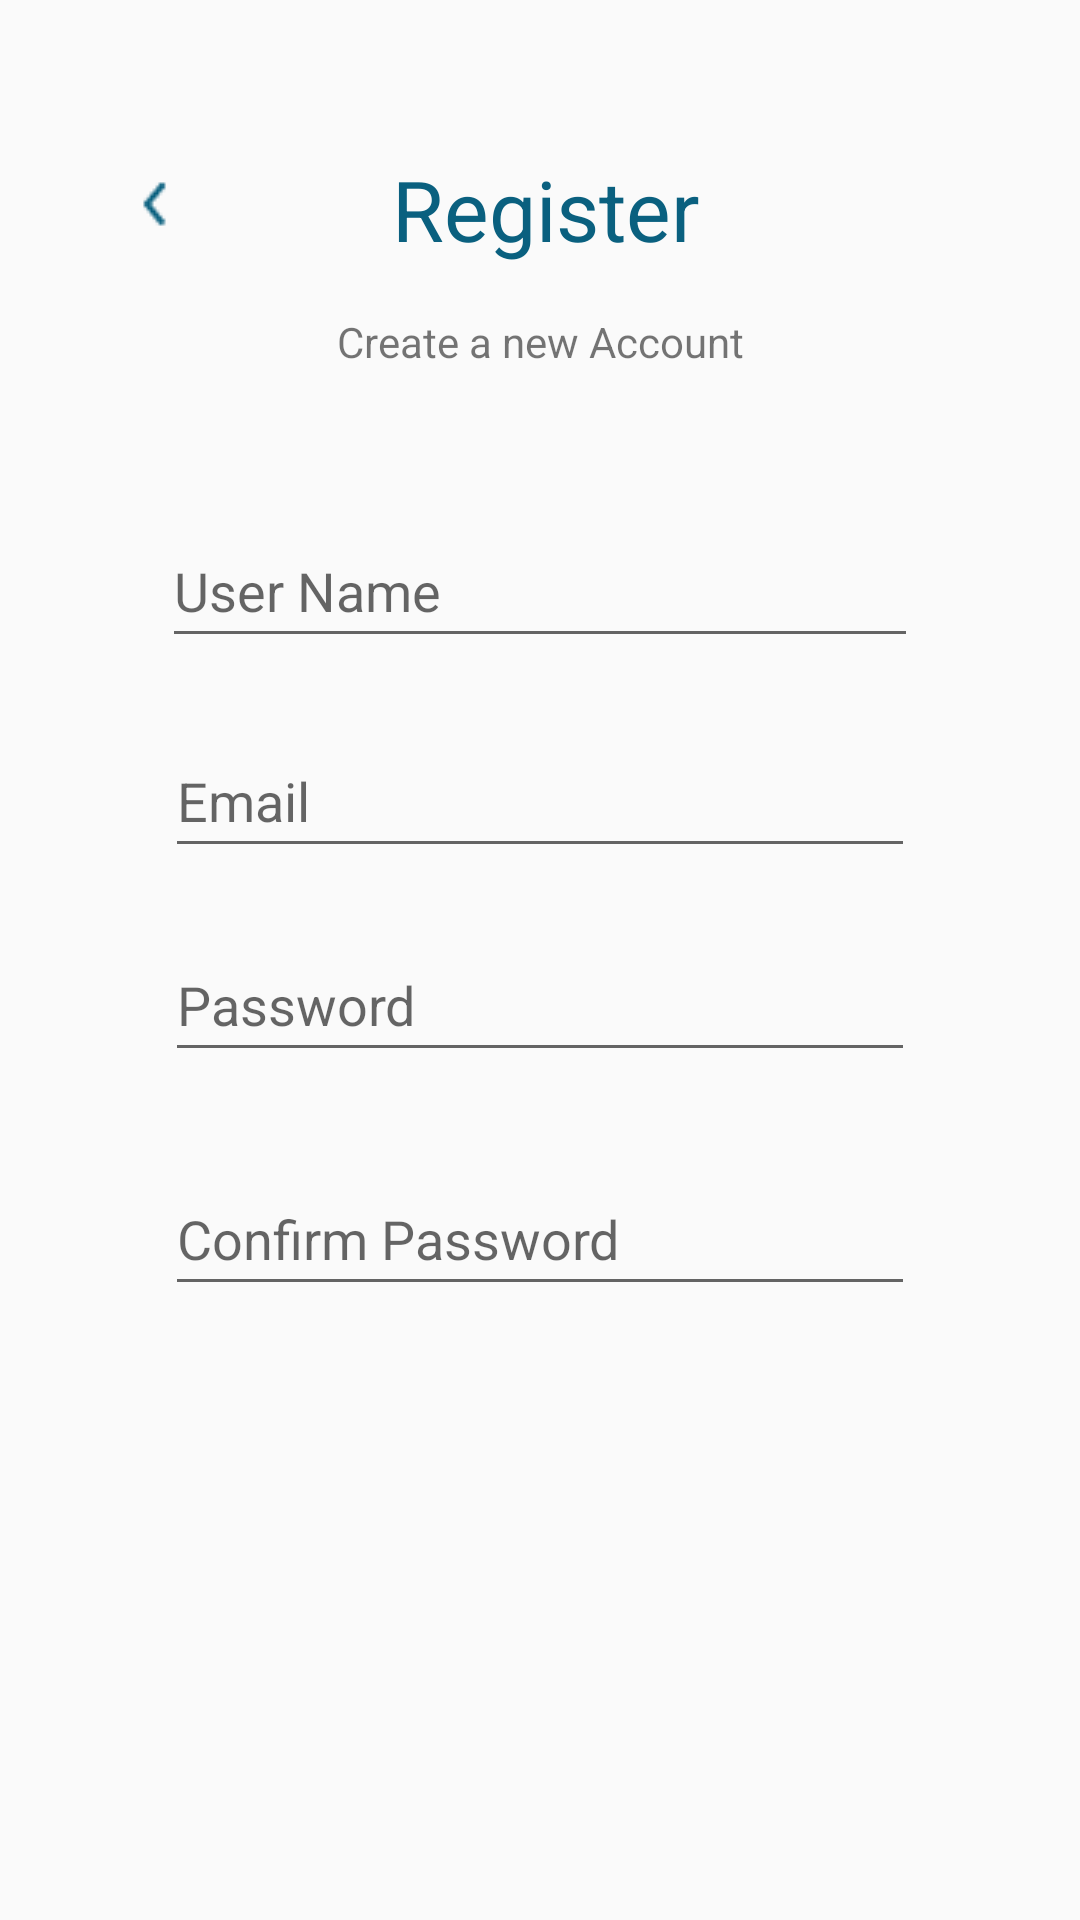

Named icons in this screenshot (1080px x 1920px) and their bounding boxes, bbox=(x1, y1, x2, y2):
backarrow: bbox=(143, 182, 166, 226)
